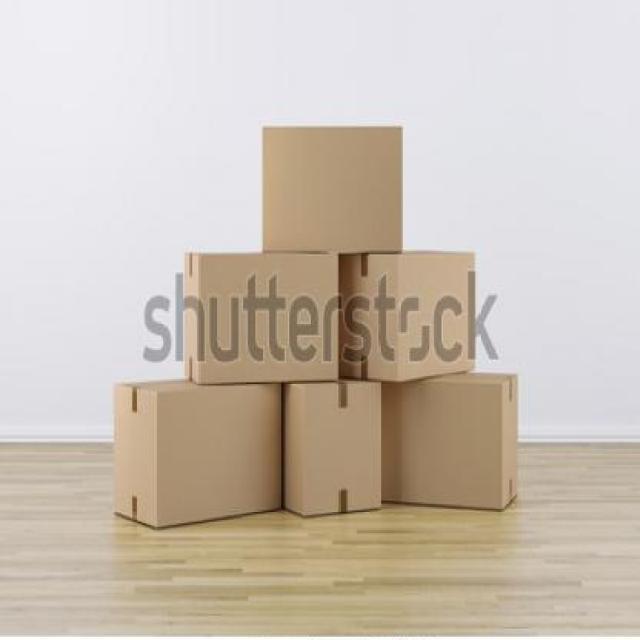box: (109, 367, 286, 532), (338, 238, 500, 396), (182, 238, 344, 394), (381, 370, 532, 524), (257, 105, 408, 253), (278, 378, 394, 539)
